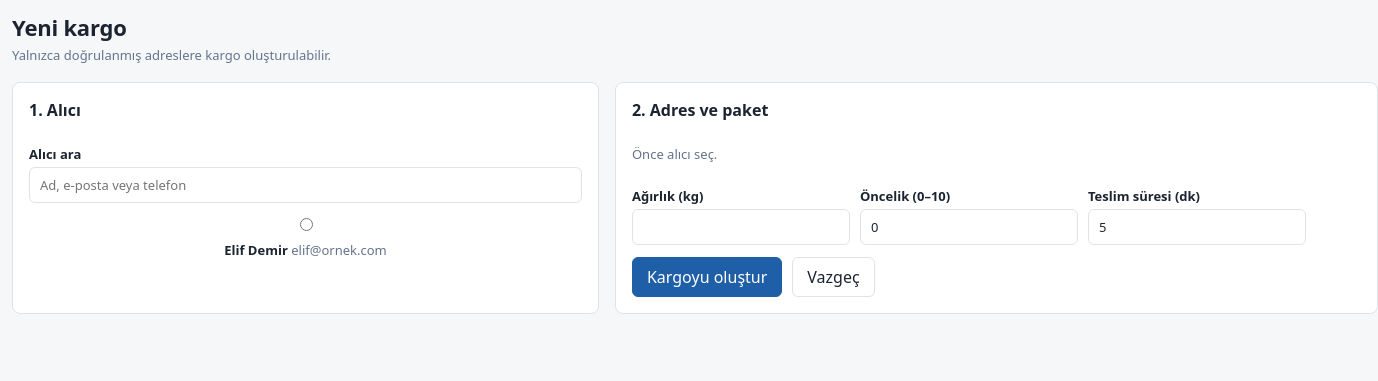
NewShipmentPage › should block submit with field errors when required values are missing
This screenshot has width=1378, height=381.
Click the button "Kargoyu oluştur": [707, 277] box [632,257,782,297]
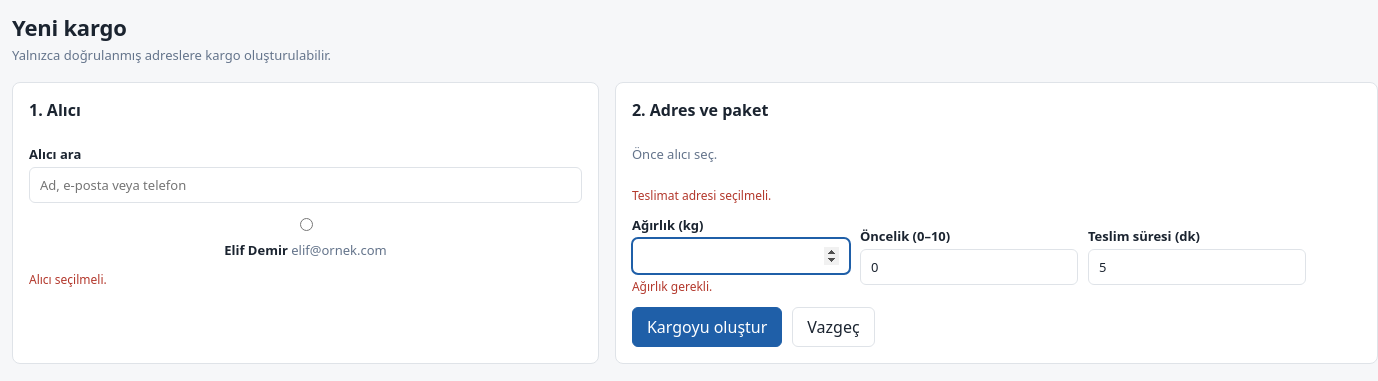
Check: the text "Alıcı seçilmeli." is shown, box [29,271,107,288]
Check: the text "Teslimat adresi seçilmeli." is shown, box [632,187,771,204]
Check: the text "Ağırlık gerekli." is shown, box [632,278,712,295]
